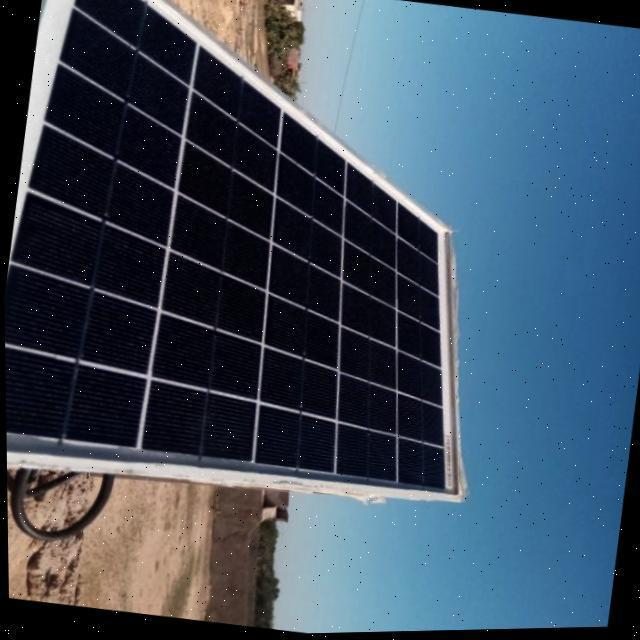Normal Solar Panel: (0, 0, 528, 523)
